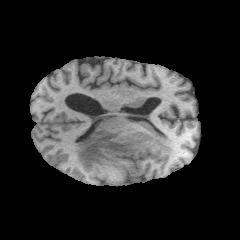glioma: (76, 128, 175, 177)
